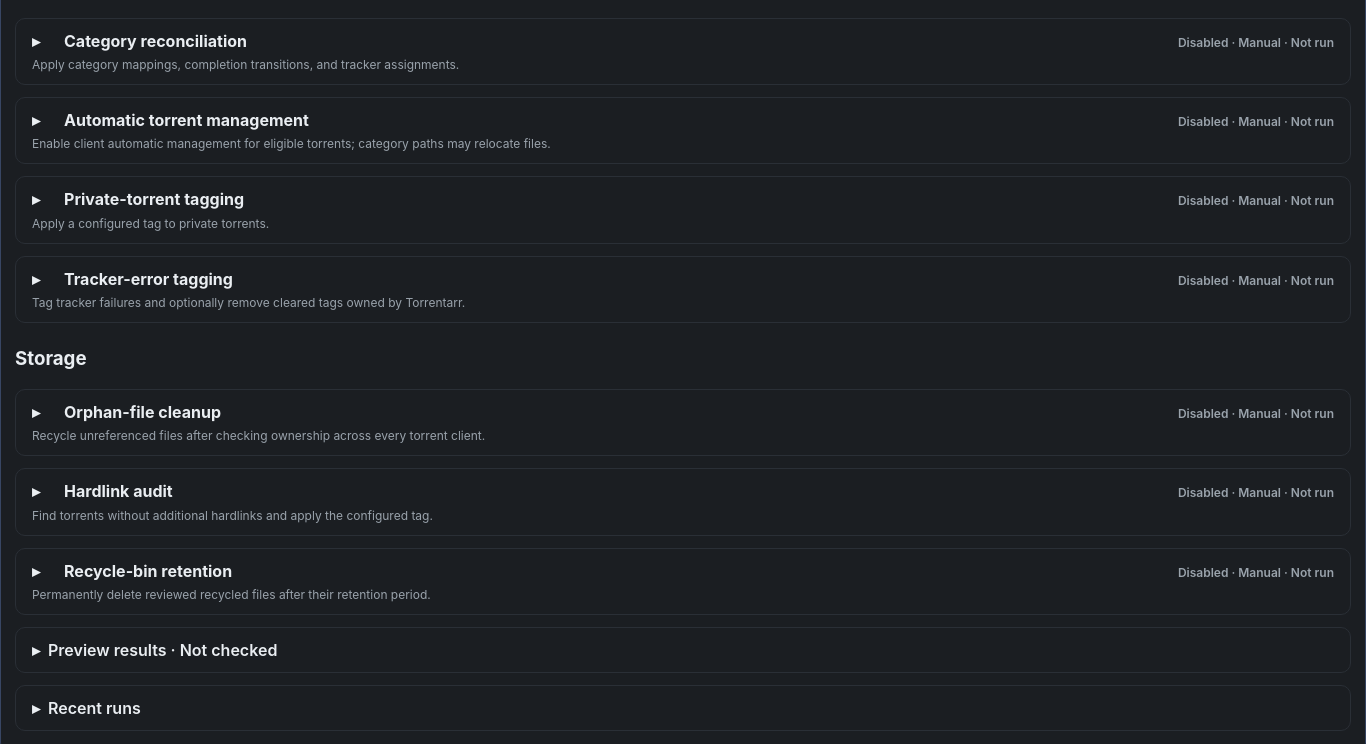
round-trips storage settings without editing credentials (canonical=false)
(page scrolled)
Click the text "Orphan-file cleanup" at (142, 412), box [64,402,221,422]
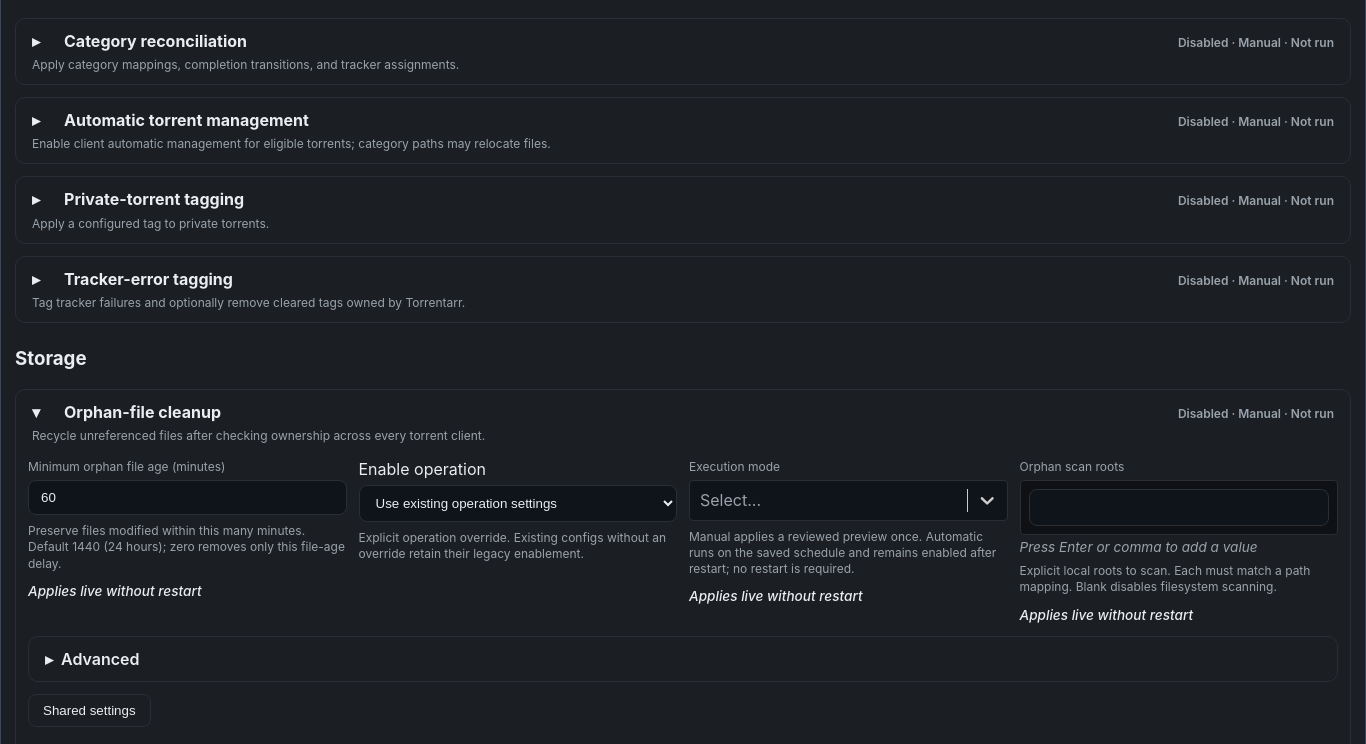
Replace the text in the field labelled "Minimum orphan file age (minutes)" with "120" at (187, 498), box [28,480,346,515]
(page scrolled)
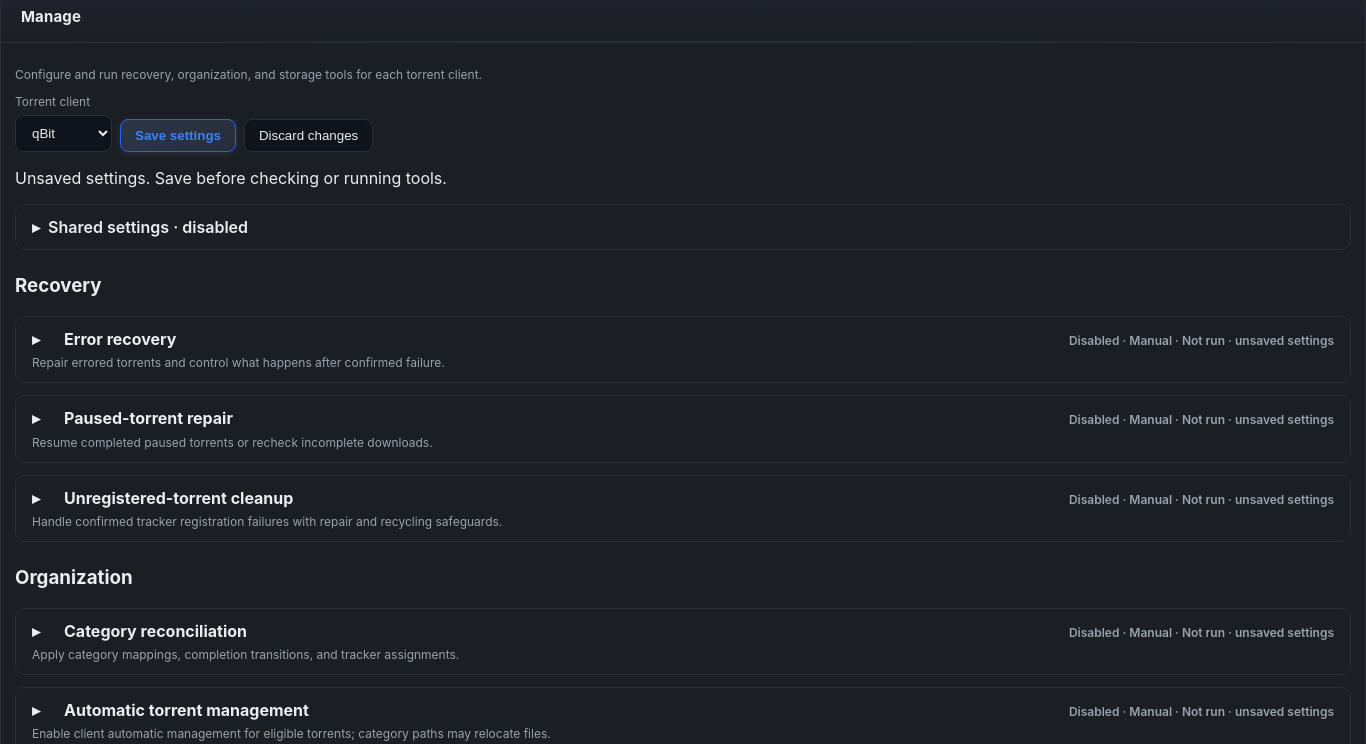
Click the button "Save settings" at (178, 136), box [120,119,236,152]
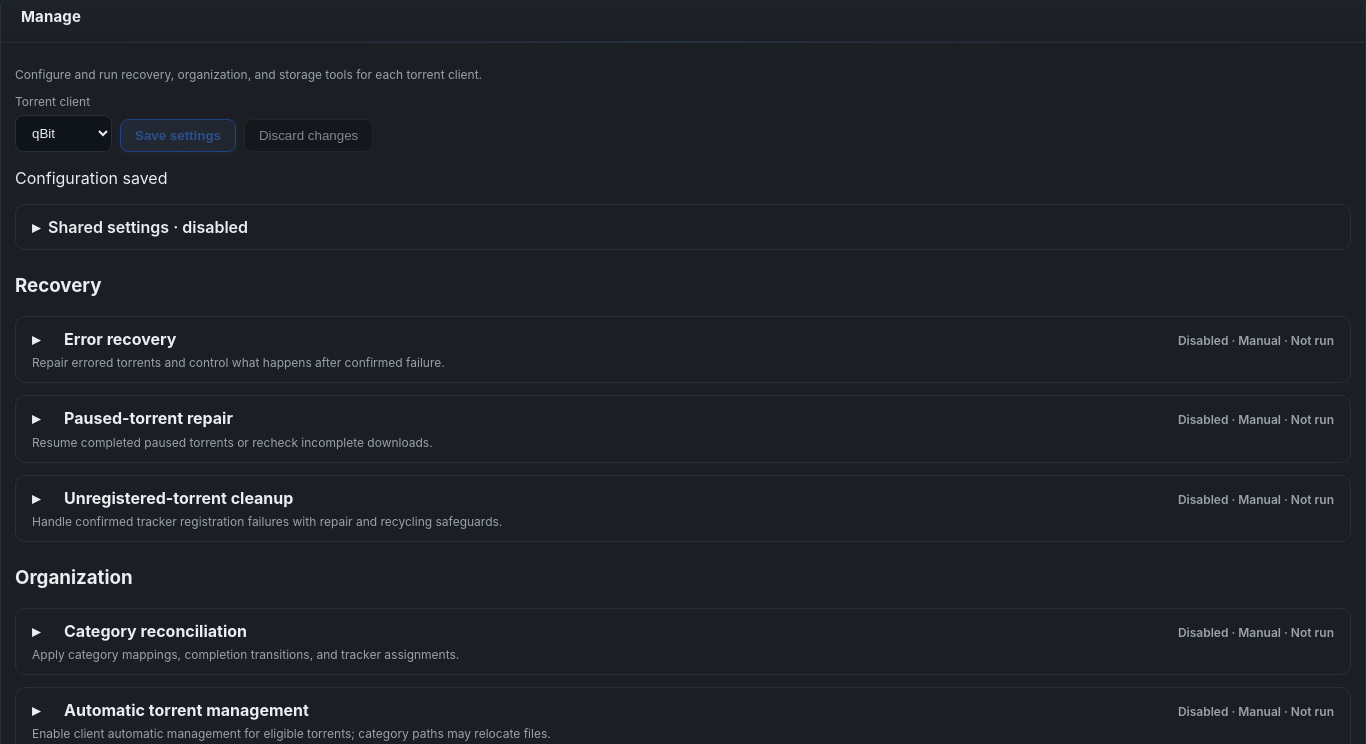
Expected: the button "Save settings" is disabled, [120,119,236,152]
